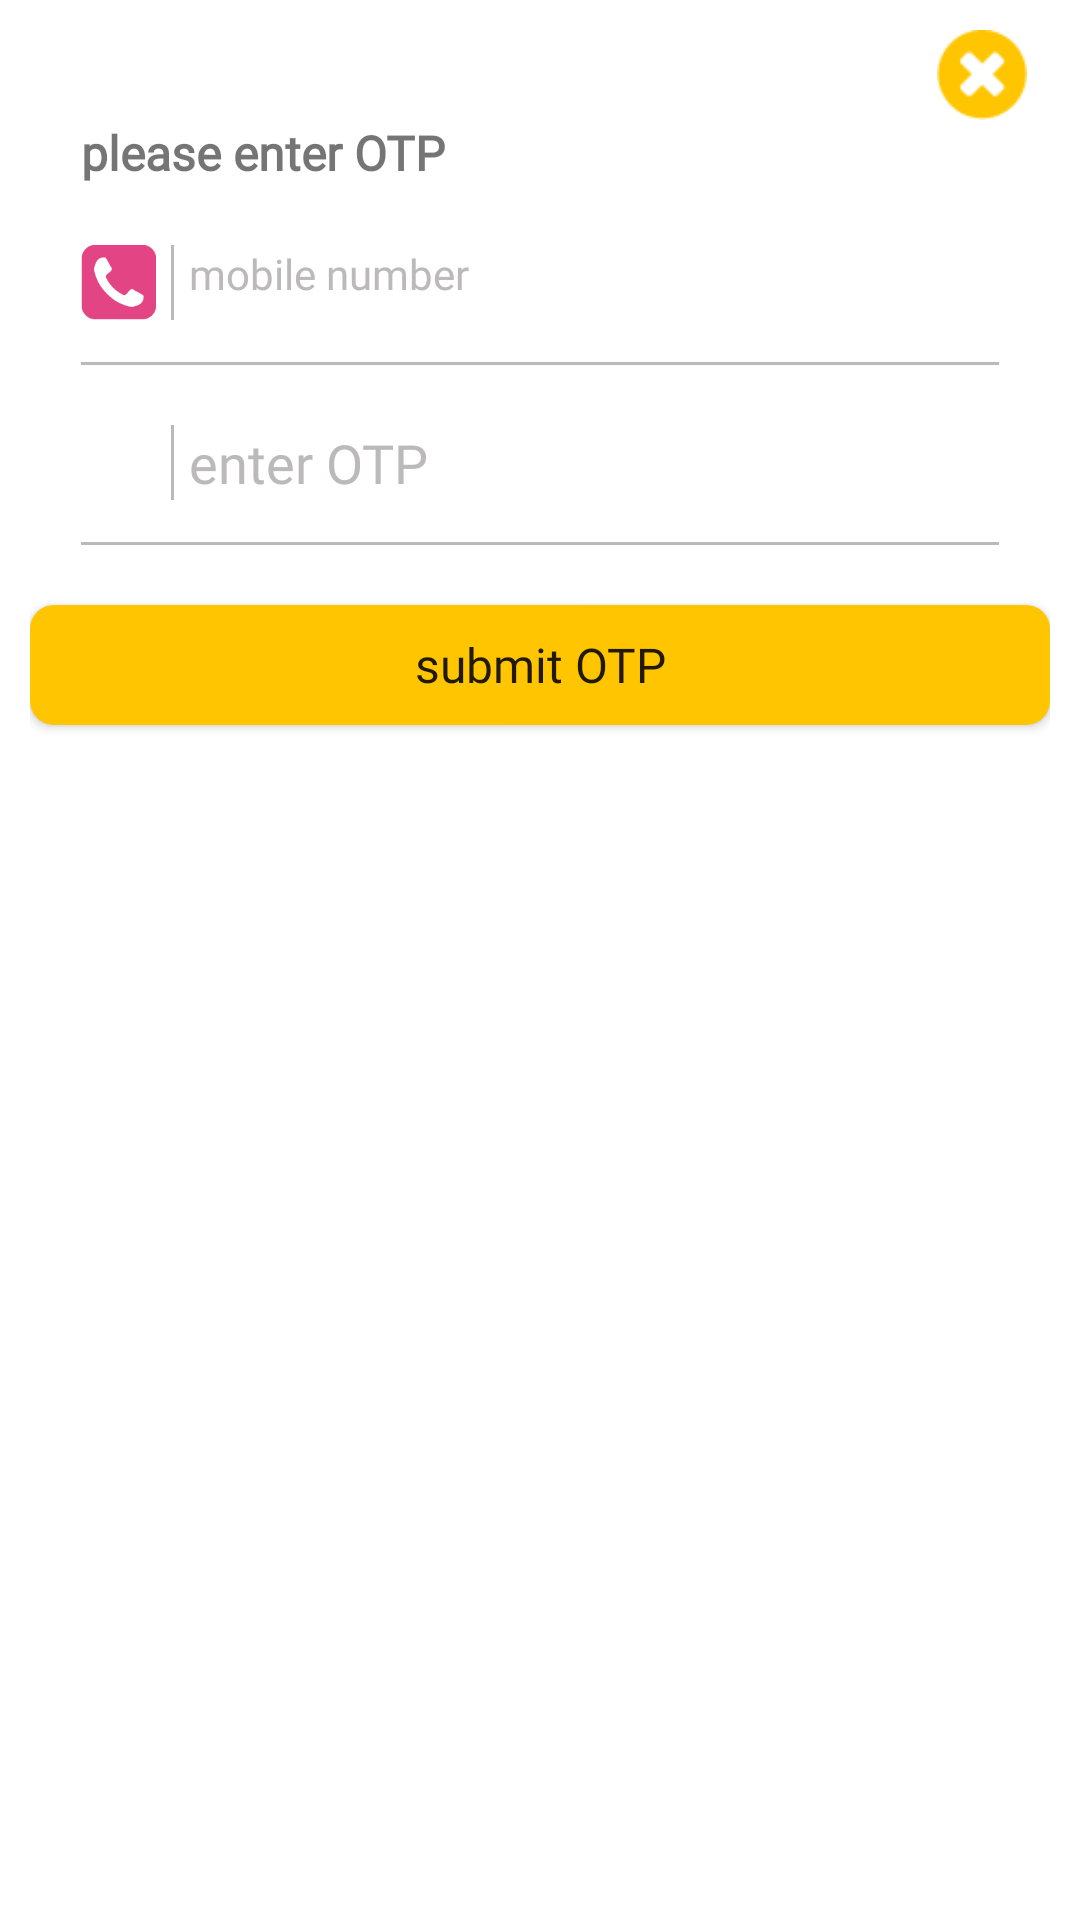

Named icons in this screenshot (1080 x 1920) and their bounding boxes, bbox=(x1, y1, x2, y2):
call: bbox=(81, 245, 156, 320)
popup close: bbox=(937, 30, 1027, 120)
